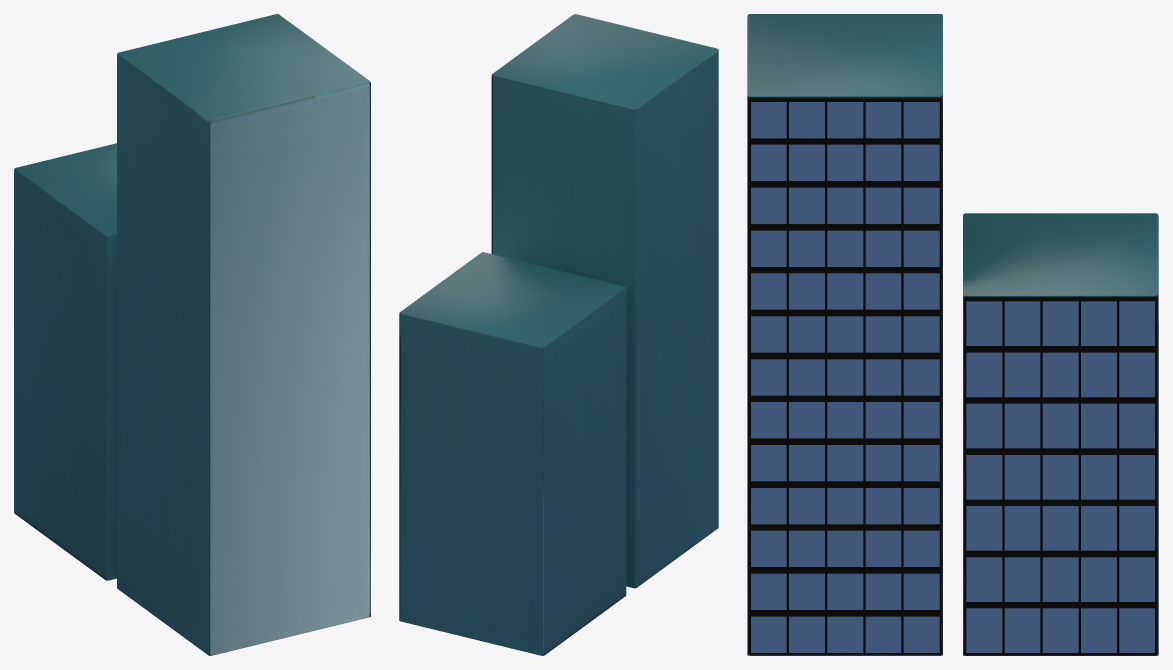
File: comingSoon.glb
The picture shows the model from 3 angles, left to right: view 1: azimuth 30°, elevation 25°; view 2: azimuth 150°, elevation 25°; view 3: azimuth 270°, elevation 25°; orthographic projection. The views are drawn at different scales.
Visible parts, largest first — view 1: Real Estate; view 2: Real Estate; view 3: Real Estate.
Part boxes in pixels (x1=…): Real Estate: x1=14, y1=14, x2=370, y2=655; Real Estate: x1=399, y1=14, x2=718, y2=655; Real Estate: x1=747, y1=14, x2=1158, y2=655.
Bounding box in the file's own units: 0.6362 × 2 × 1.33.
3 materials, 2 textured.
